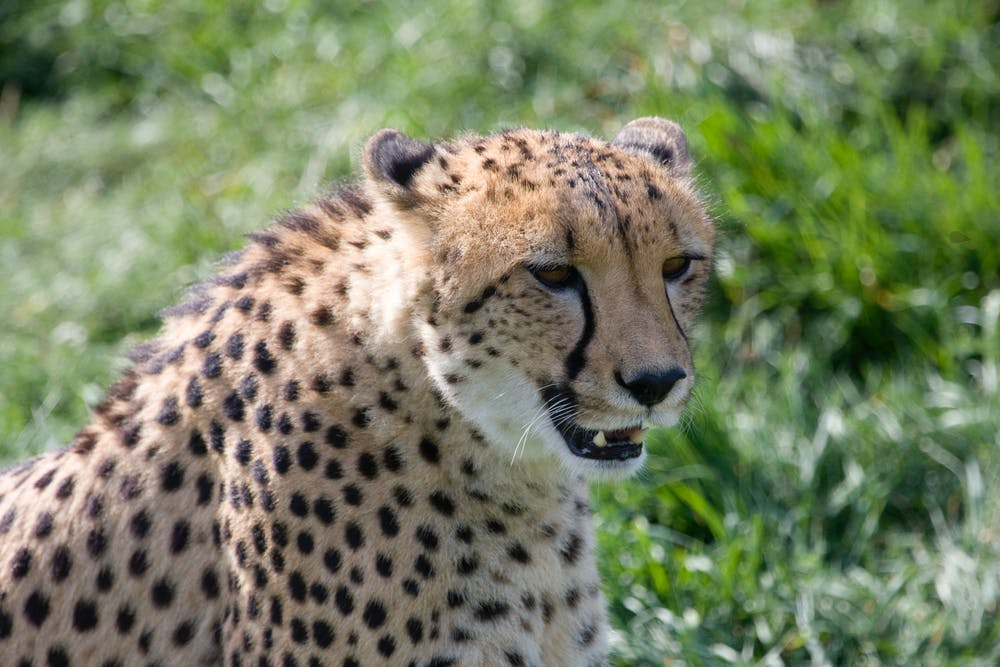cheetah: (320, 96, 745, 494)
